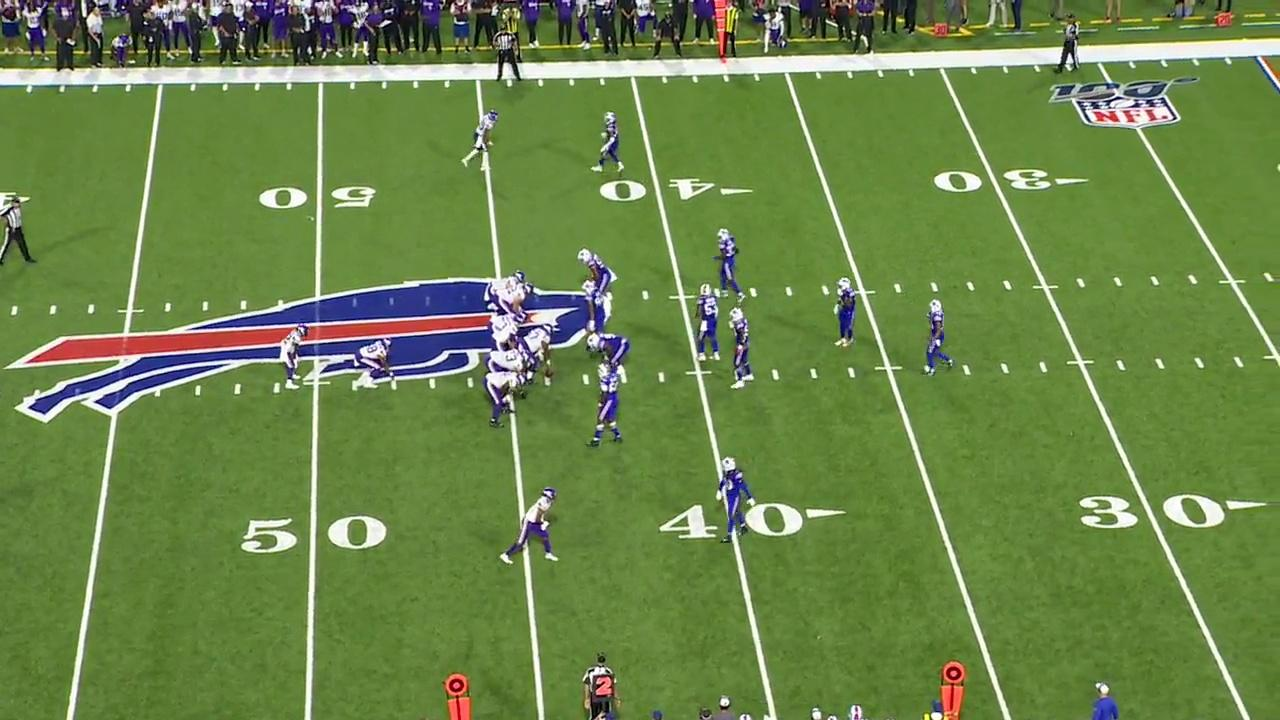player: (494, 482, 560, 571), (583, 364, 627, 456), (716, 456, 750, 545), (726, 307, 758, 389), (713, 230, 748, 300), (924, 299, 955, 378), (590, 107, 626, 175), (353, 336, 396, 391), (459, 109, 497, 171), (688, 284, 717, 365), (484, 375, 529, 425), (281, 323, 311, 395), (833, 275, 857, 351), (574, 278, 608, 331), (575, 240, 610, 289), (486, 271, 524, 312), (586, 334, 630, 369), (484, 350, 541, 376), (524, 321, 552, 368), (494, 284, 533, 314), (488, 321, 521, 355), (489, 307, 529, 325)
ref: (0, 186, 39, 266), (488, 24, 528, 84), (1048, 13, 1084, 79), (580, 651, 619, 689)
